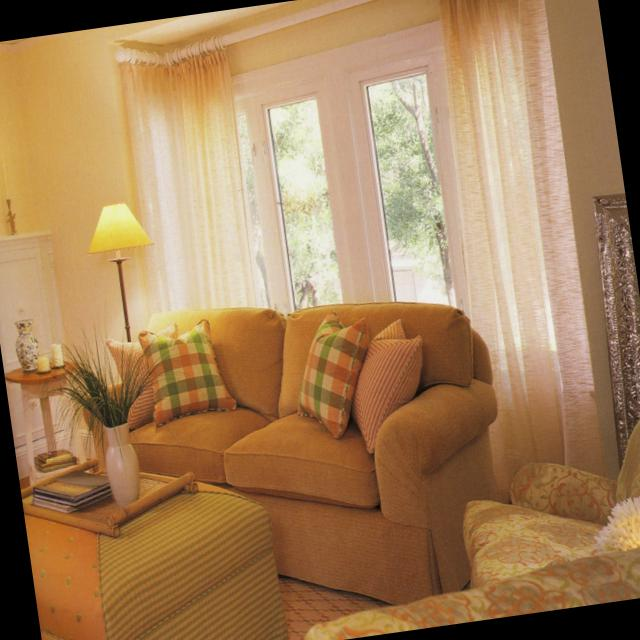2001: (369, 75, 456, 303), (267, 97, 340, 311)
2005: (232, 22, 471, 321)
candle holder: (0, 143, 18, 232), (50, 345, 65, 367), (36, 358, 50, 372)
ceiling beam: (113, 0, 327, 52)
coffee table: (25, 482, 290, 640)
curtain crop: (113, 37, 249, 324)
curtainrod: (116, 0, 372, 63)
curtains: (437, 0, 604, 488)
floor lamp: (87, 200, 154, 343)
flowers in pot: (598, 492, 640, 554)
mantle: (0, 228, 84, 477)
metal decoration: (591, 193, 640, 473)
plant -x: (63, 340, 171, 427)
side: (5, 356, 79, 472)
sofa bed: (83, 299, 504, 606), (303, 427, 640, 640)
stack of books: (29, 468, 112, 514)
throw pillow: (348, 314, 424, 453), (299, 311, 365, 438)
throw pillows: (110, 317, 238, 429)
tray occluded: (22, 459, 197, 536)
vase -X: (103, 424, 141, 509), (15, 321, 40, 368)
wall clock: (0, 28, 140, 457), (548, 0, 623, 478), (228, 0, 438, 74)
